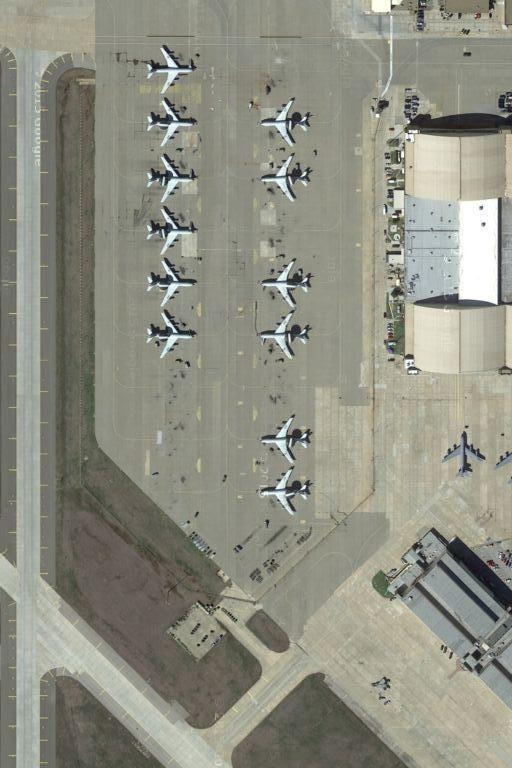E-3: (143, 149, 198, 209), (258, 93, 314, 151), (256, 309, 313, 363), (145, 256, 202, 310), (258, 465, 316, 518), (258, 257, 314, 311), (145, 307, 198, 363), (260, 153, 314, 207), (145, 201, 197, 257), (145, 95, 197, 149), (258, 414, 311, 466)
E-8: (143, 44, 195, 96)
KC-135: (442, 426, 486, 478)
